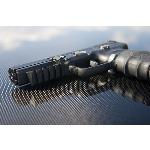Pistol: (8, 38, 150, 98)
